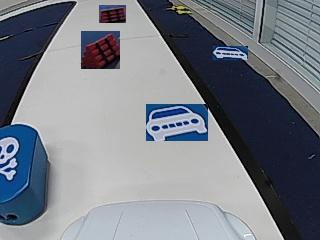danger: (1, 135, 18, 178)
